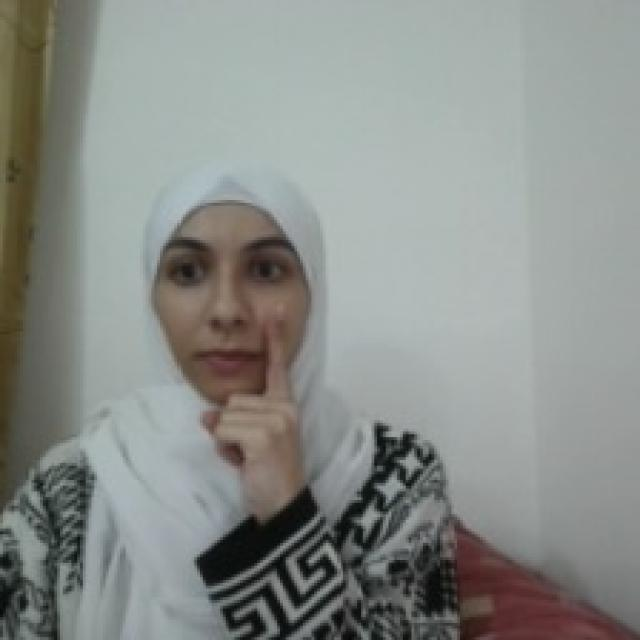mother: (196, 295, 310, 518)
